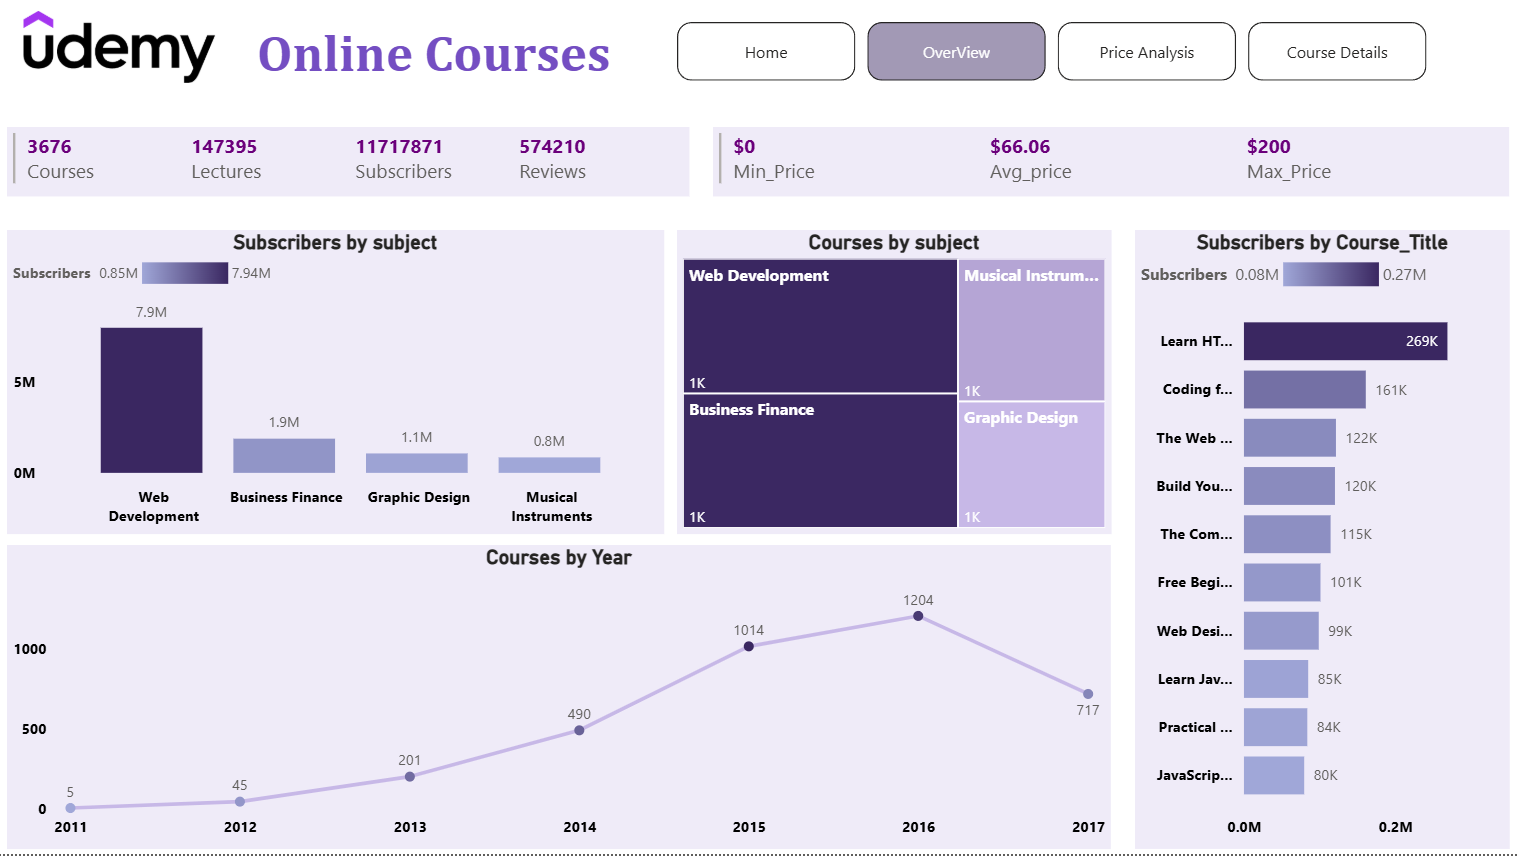

The dashboard page shown, as its layout file describes it:
{"tool":"powerbi","page":{"name":"OverView","canvas":[1280,720],"ordinal":1},"visuals":[{"type":"multiRowCard","fields":{"Values":["udemy.Courses","udemy.Lectures","udemy.Subscribers","udemy.Reviews"]},"box":[14.6,112.8,570,58.4],"z":0},{"type":"multiRowCard","fields":{"Values":["udemy.Min_Price","udemy.Avg_price","udemy.Max_Price"]},"box":[604,112.8,665.3,58.4],"z":1000},{"type":"textbox","box":[217.9,20.4,1062.1,60.3],"z":2000},{"type":"image","box":[0,10.7,217.9,70],"z":3000},{"type":"columnChart","fields":{"Y":["udemy.Subscribers"],"Category":["udemy.subject"]},"box":[14.6,198.4,548.6,253.9],"z":4000},{"type":"treemap","fields":{"Group":["udemy.subject","udemy.level"],"Values":["udemy.Courses"]},"box":[573.9,198.4,362.8,253.9],"z":5000},{"type":"lineChart","fields":{"Y":["udemy.Courses"],"Category":["udemy.published_timestamp.Variation.Date Hierarchy.Year"]},"box":[14.6,462,922.1,253.9],"z":6000},{"type":"barChart","fields":{"Y":["udemy.Subscribers"],"Category":["udemy.Course_Title"]},"box":[956.1,198.4,313.2,517.4],"z":7000},{"type":"pageNavigator","box":[573.9,25.3,629.3,49.6],"z":8000}]}

Visuals, with their boxes in screenshot pixels (x1, y1, x2, y2), scaled from the page's 1280x720 canvas onto the 1519x856 screenshot:
multiRowCard - udemy.Courses x udemy.Lectures: box=[17, 134, 694, 204]
multiRowCard - udemy.Min_Price x udemy.Avg_price: box=[717, 134, 1506, 204]
textbox: box=[259, 24, 1518, 96]
image: box=[0, 13, 259, 96]
columnChart - udemy.Subscribers x udemy.subject: box=[17, 236, 668, 538]
treemap - udemy.subject x udemy.level: box=[681, 236, 1112, 538]
lineChart - udemy.Courses x udemy.published_timestamp.Variation.Date Hierarchy.Year: box=[17, 549, 1112, 851]
barChart - udemy.Subscribers x udemy.Course_Title: box=[1135, 236, 1506, 851]
pageNavigator: box=[681, 30, 1428, 89]
